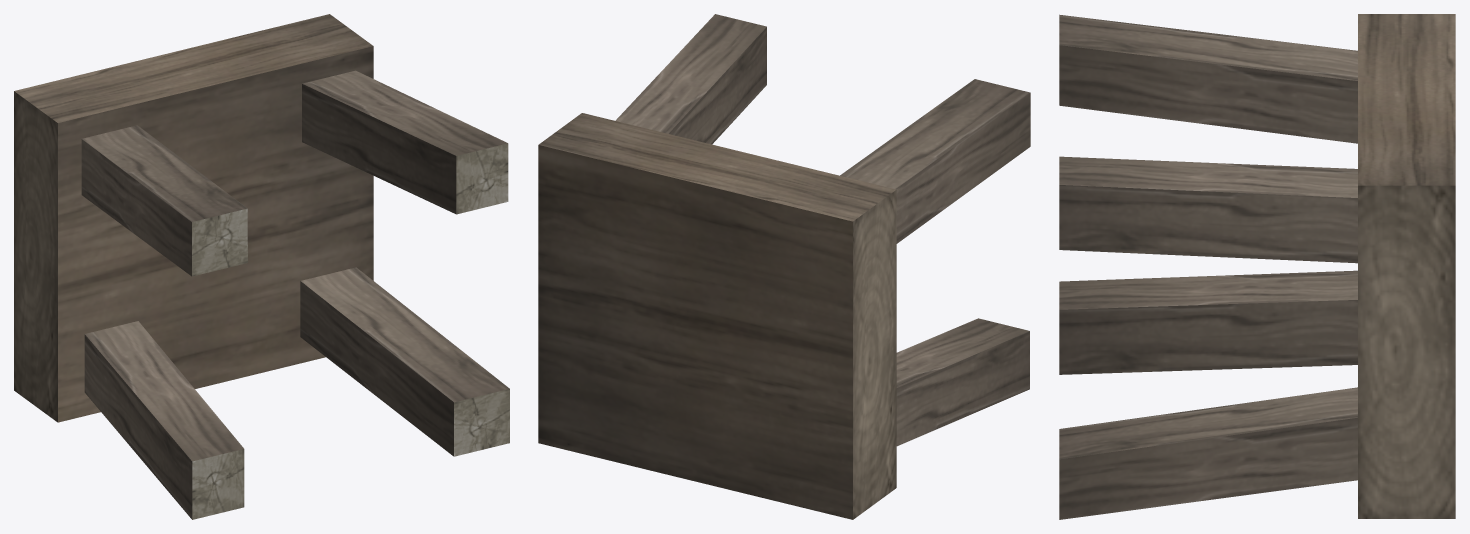
The model's file is Nightstand_B.fbx.
3 renders of one model, left to right at view 1: azimuth 30°, elevation 25°; view 2: azimuth 150°, elevation 25°; view 3: azimuth 270°, elevation 25°, orthographic. The views are drawn at different scales.
Visible parts, largest first — view 1: Nightstand_B; view 2: Nightstand_B; view 3: Nightstand_B.
Boxes of the visible parts, <box> form: Nightstand_B: <box>14,14,509,519</box>; Nightstand_B: <box>538,14,1030,519</box>; Nightstand_B: <box>1059,14,1455,519</box>.
Size of the model in its own units: 0.9932 by 0.8964 by 0.9633.
